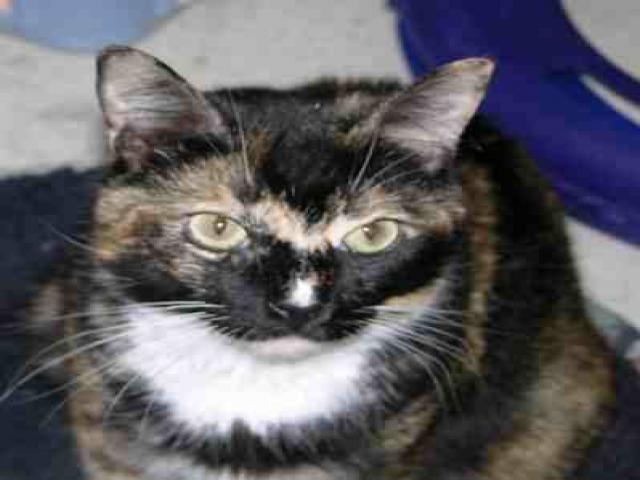cat: (35, 43, 599, 469)
